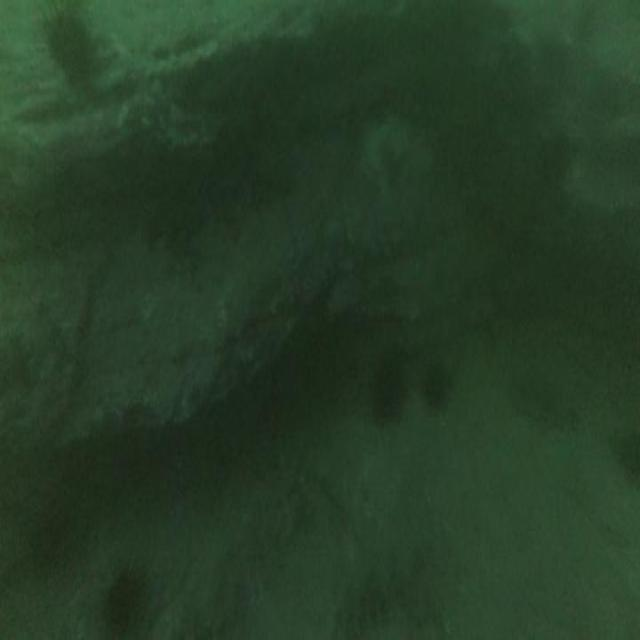echinus: (37, 0, 104, 82), (96, 558, 144, 640), (363, 351, 409, 419), (423, 351, 458, 417)
